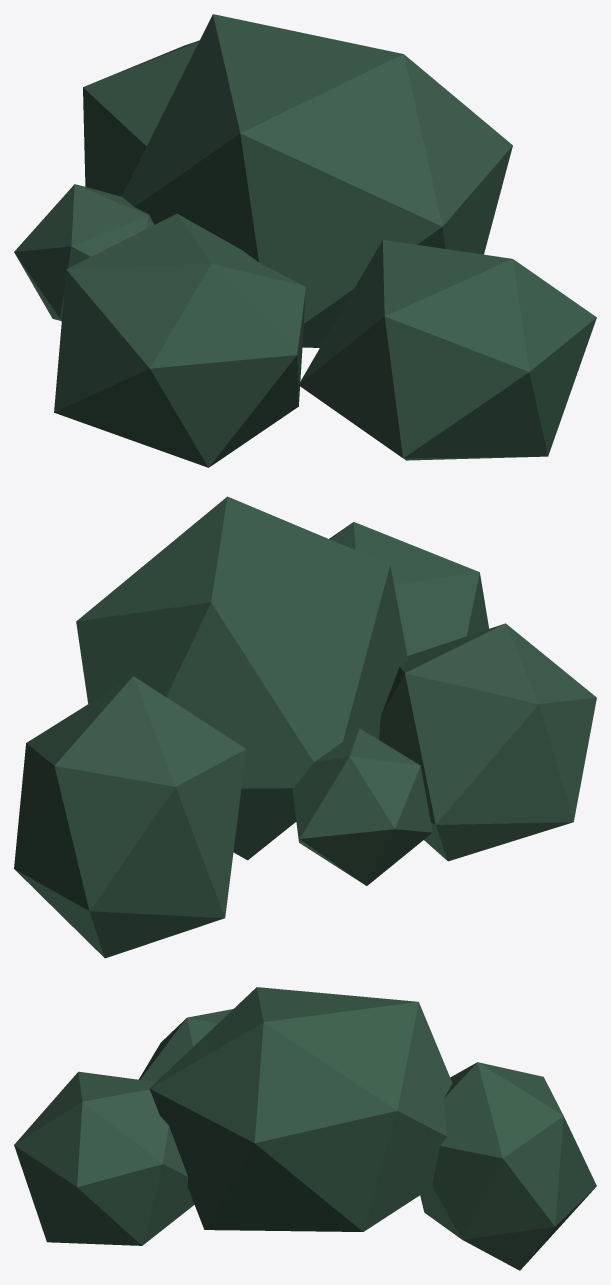
The model's file is Bush.fbx.
3 views of the same model, one above another, from view 1: azimuth 30°, elevation 25°; view 2: azimuth 150°, elevation 25°; view 3: azimuth 270°, elevation 25° (orthographic). The views are drawn at different scales.
Parts seen in each view (by area): view 1: Bush; view 2: Bush; view 3: Bush.
Part boxes in pixels (x1,y1,x2,y2): Bush: [14, 14, 596, 467]; Bush: [14, 496, 596, 958]; Bush: [14, 987, 596, 1270].
Size of the model in its own units: 3.71 by 2.72 by 5.45.
